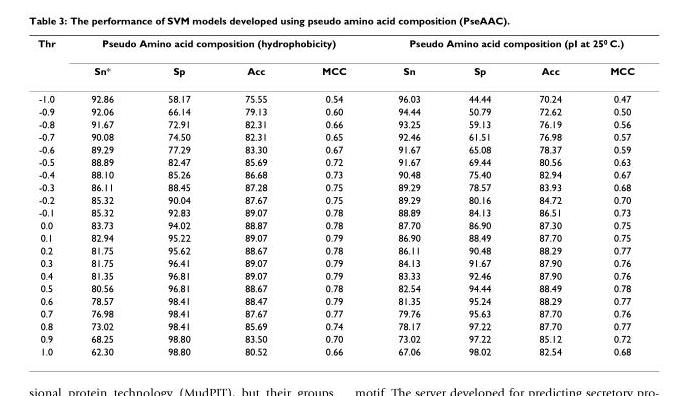table: (36, 36, 633, 356)
table column: (293, 36, 371, 356), (216, 36, 293, 356), (140, 36, 216, 356), (371, 36, 443, 356), (443, 36, 514, 356), (514, 36, 585, 356), (72, 36, 140, 356), (585, 36, 633, 356), (36, 36, 72, 356)
table column header: (36, 36, 633, 84)
table row: (36, 56, 633, 84), (36, 36, 633, 56), (36, 84, 633, 104), (36, 104, 633, 117), (36, 117, 633, 130), (36, 142, 633, 155), (36, 167, 633, 180), (36, 180, 633, 193), (36, 205, 633, 218), (36, 218, 633, 231), (36, 243, 633, 256), (36, 268, 633, 281), (36, 281, 633, 294), (36, 306, 633, 319), (36, 319, 633, 332), (36, 130, 633, 142), (36, 155, 633, 167), (36, 193, 633, 205), (36, 231, 633, 243), (36, 256, 633, 268), (36, 294, 633, 306), (36, 332, 633, 344), (36, 344, 633, 356)
table spanning cell: (72, 36, 371, 56), (371, 36, 633, 56), (36, 36, 72, 84)
